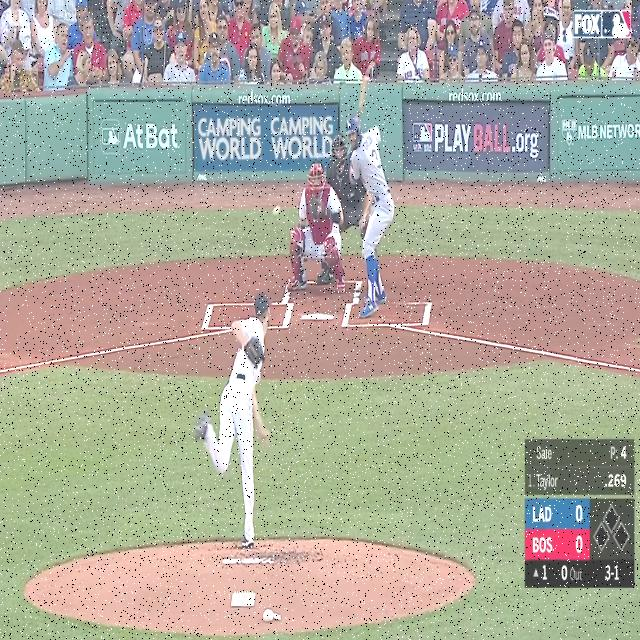baseball: (273, 205, 280, 217)
